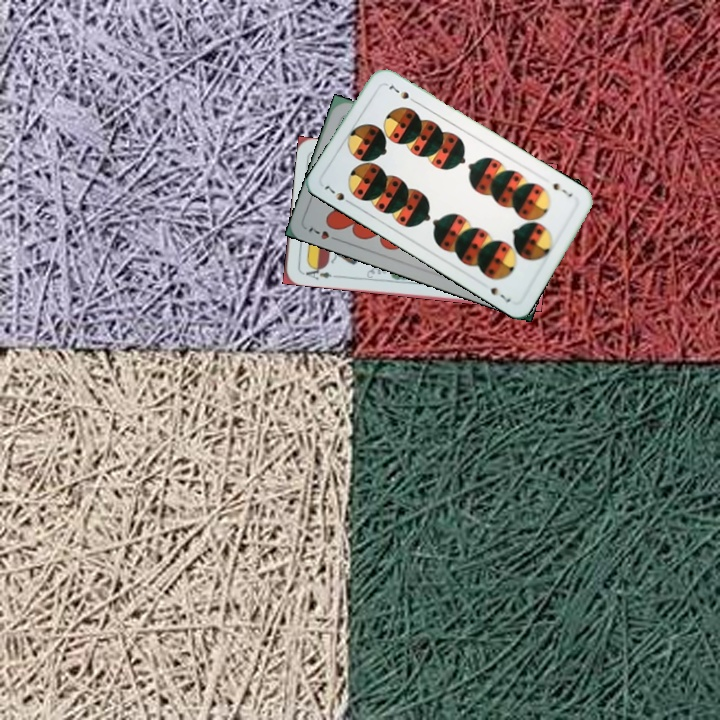EA: (298, 262, 334, 282)
H7: (304, 223, 342, 244)
S7: (320, 181, 356, 208), (549, 179, 575, 200)
